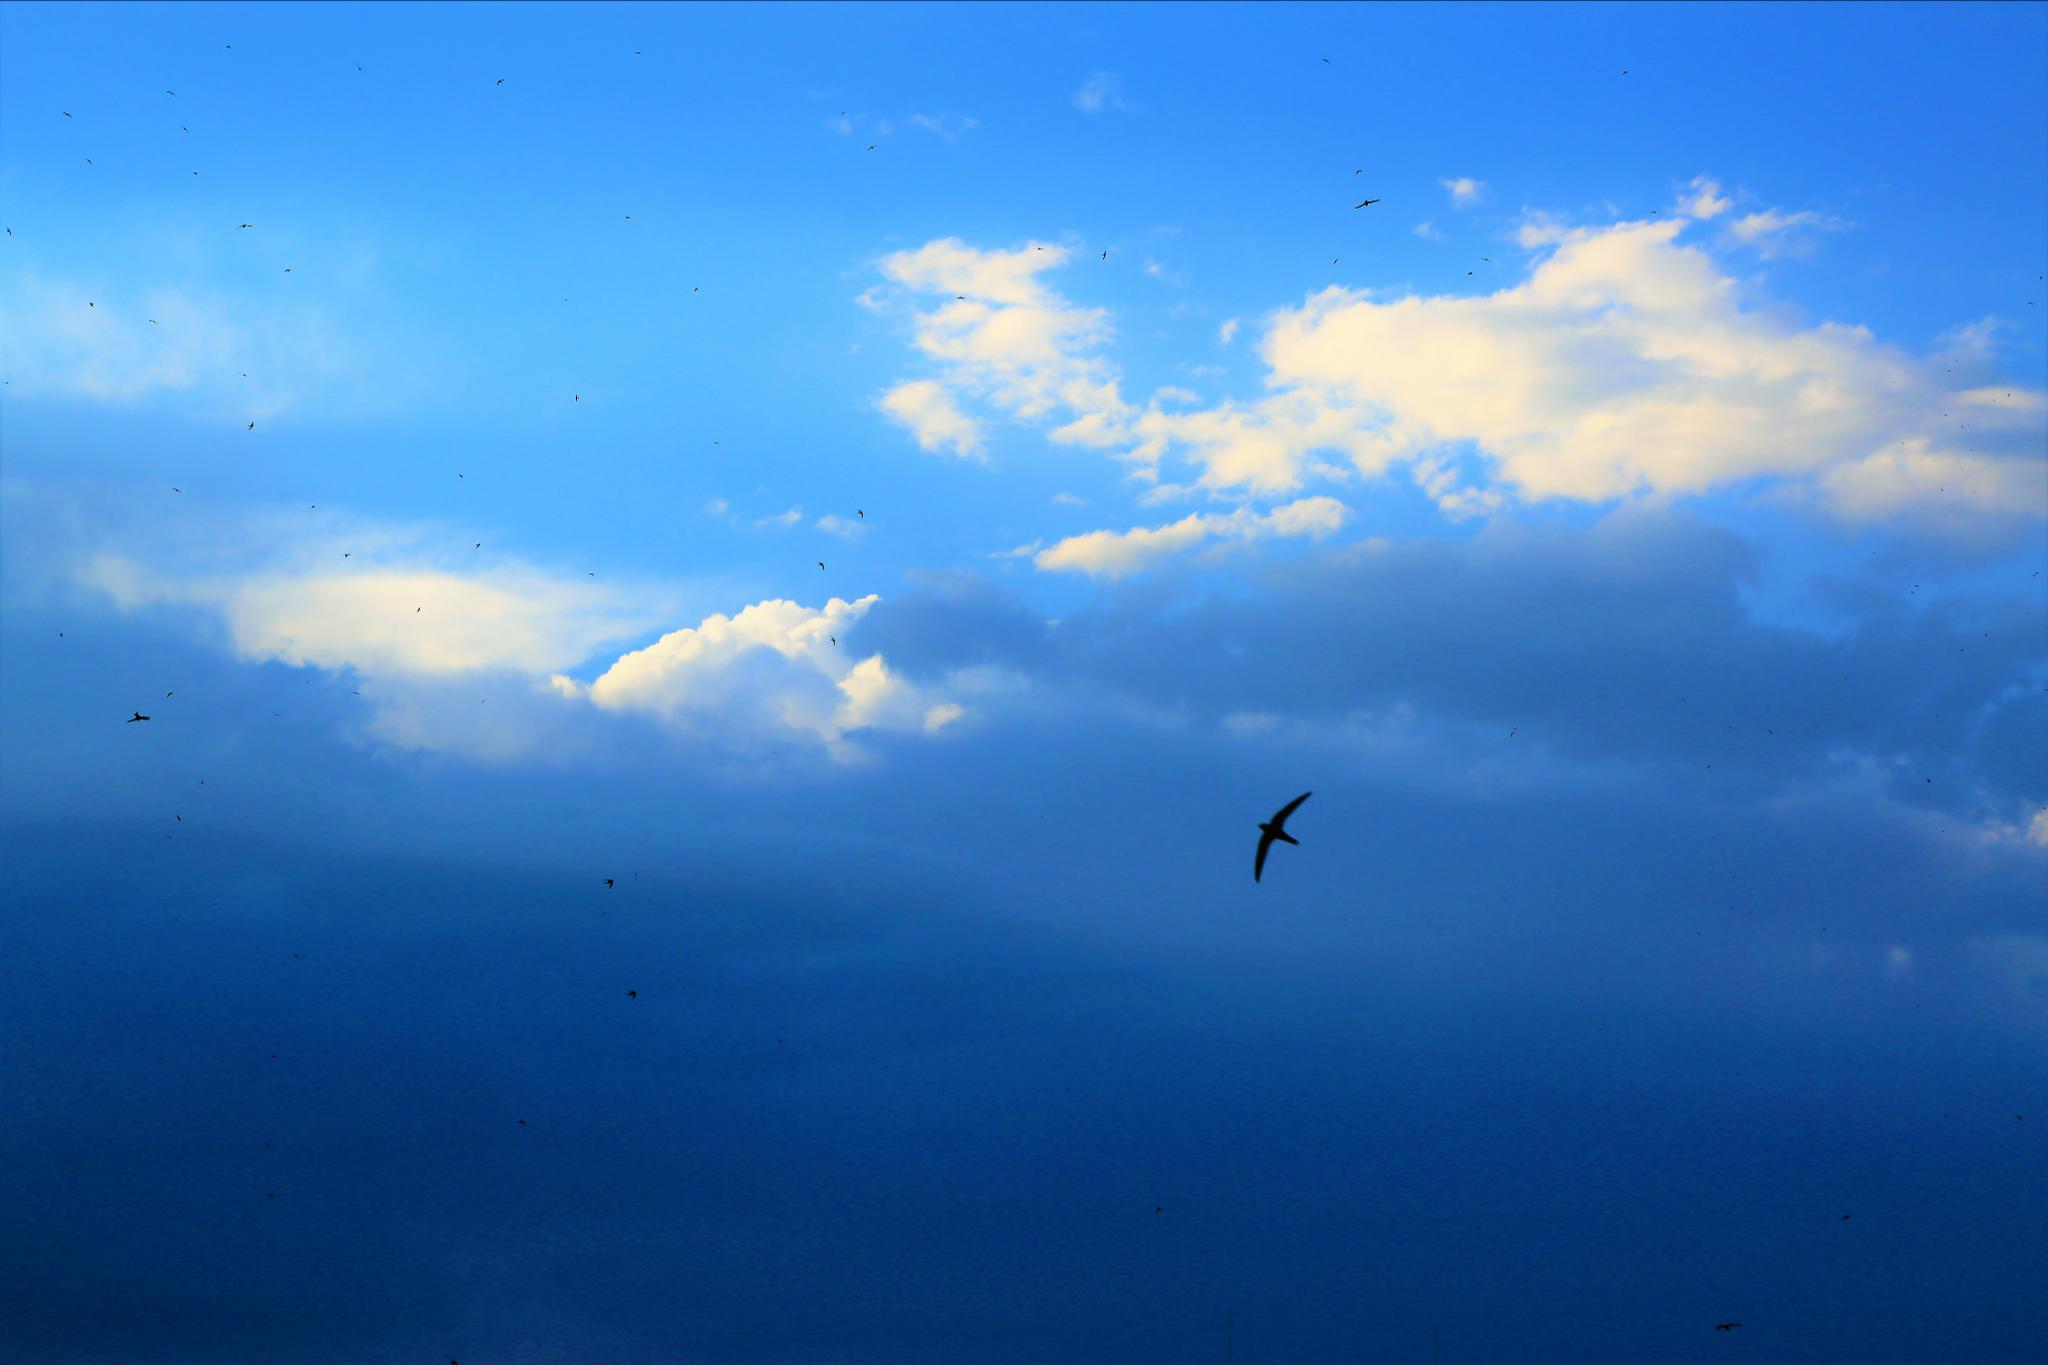bird: (1223, 772, 1328, 888), (1337, 187, 1393, 219), (114, 705, 164, 728), (594, 865, 630, 896)
